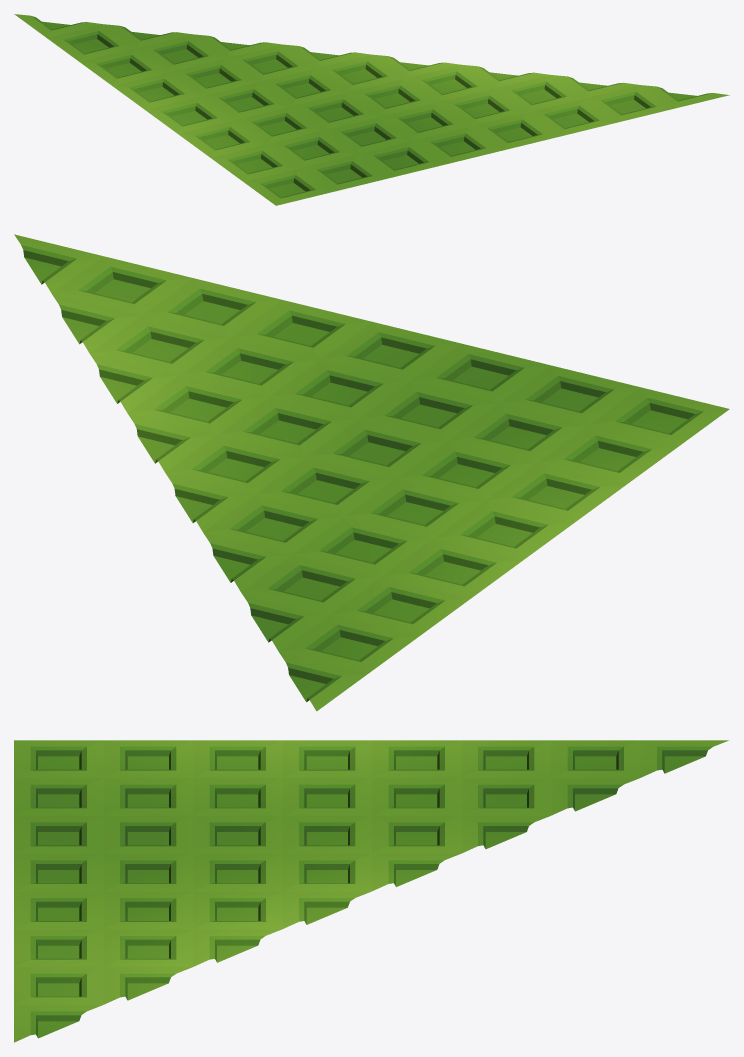
File: GroundGreenTriangle.glb
3 renders of one model, top to bottom at view 1: azimuth 30°, elevation 25°; view 2: azimuth 150°, elevation 25°; view 3: azimuth 270°, elevation 25°, orthographic. The views are drawn at different scales.
Visible parts, largest first — view 1: GroundGreenTriangle; view 2: GroundGreenTriangle; view 3: GroundGreenTriangle.
Part boxes in pixels (left/top/right/bottom): GroundGreenTriangle: left=14, top=14, right=729, bottom=205; GroundGreenTriangle: left=14, top=234, right=729, bottom=711; GroundGreenTriangle: left=14, top=740, right=728, bottom=1042.
Bounding box in the file's own units: 16 × 0.16 × 16.
1 material, 1 textured.
